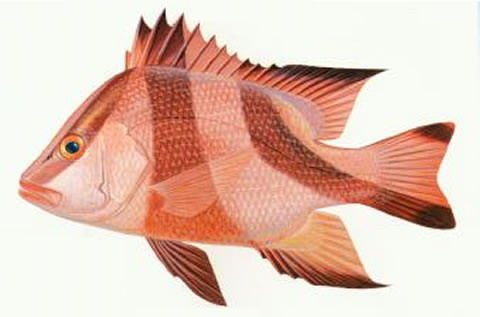fish: (18, 11, 457, 308)
